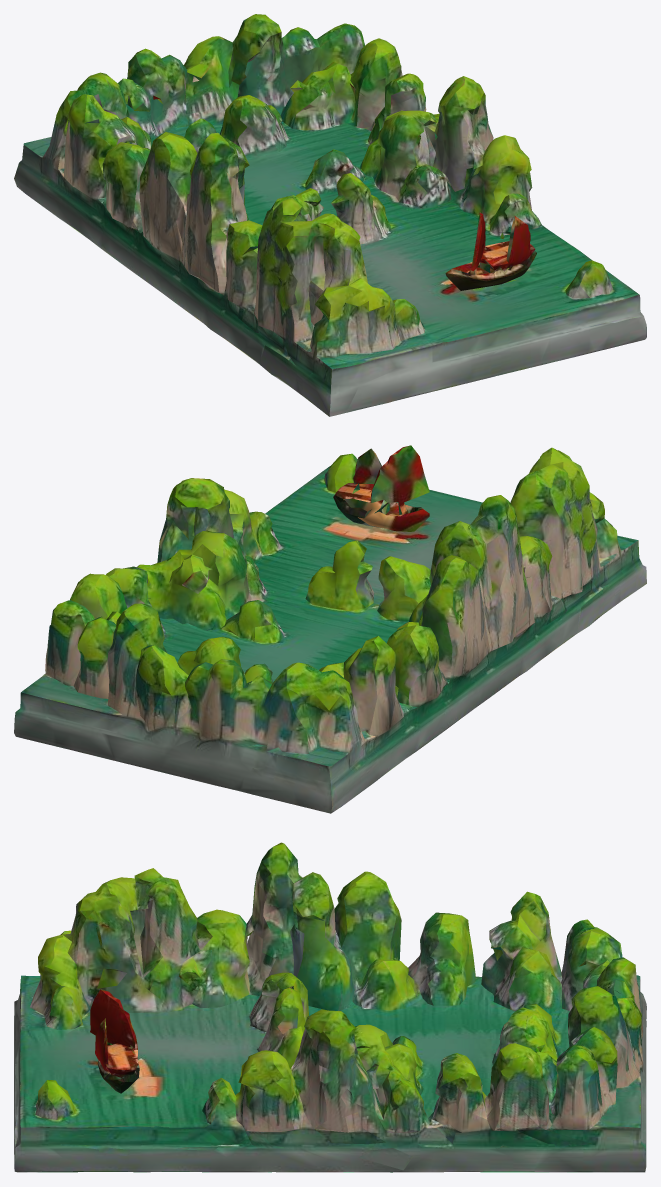
The model's file is halong-bay.glb.
The picture shows the model from 3 angles, top to bottom: view 1: azimuth 30°, elevation 25°; view 2: azimuth 150°, elevation 25°; view 3: azimuth 270°, elevation 25°; orthographic projection.
Visible parts, largest first — view 1: logan-textured.obj; view 2: logan-textured.obj; view 3: logan-textured.obj.
Part boxes in pixels (left/top/right/bottom): logan-textured.obj: left=14, top=14, right=646, bottom=416; logan-textured.obj: left=14, top=445, right=646, bottom=813; logan-textured.obj: left=14, top=842, right=646, bottom=1172.
Bounding box in the file's own units: 0.5979 × 0.3172 × 1.
Materials: 1 (1 with a texture image).
